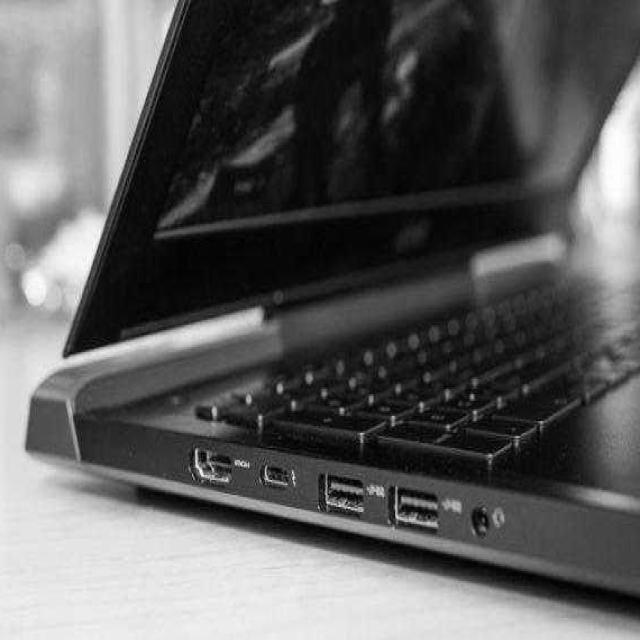laptop: (42, 2, 632, 610)
